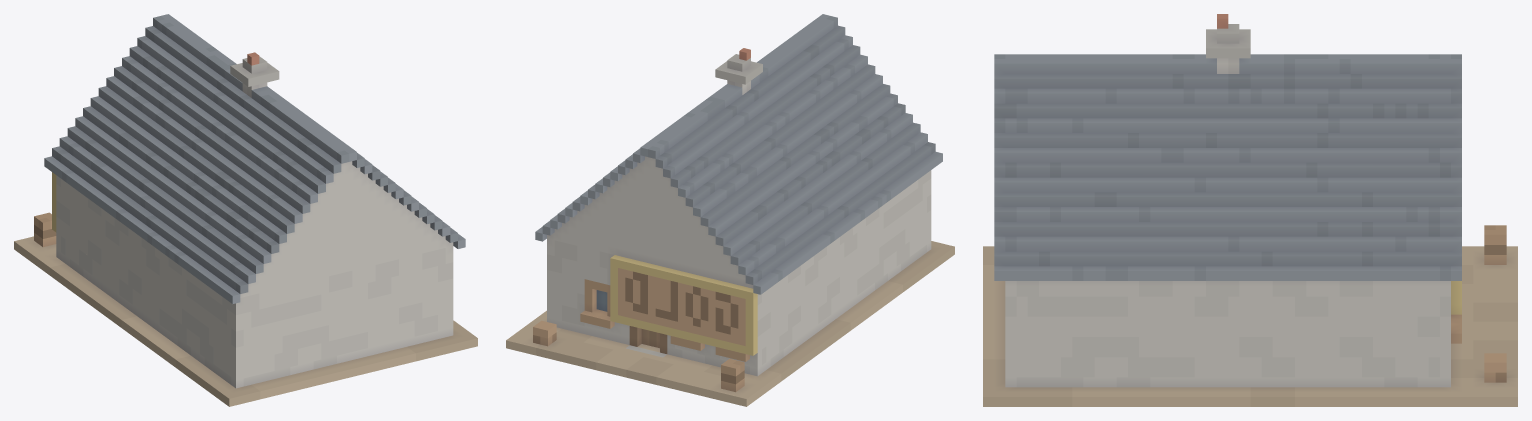
The model's file is gold_smelter.glb.
The picture shows the model from 3 angles, left to right: view 1: azimuth 30°, elevation 25°; view 2: azimuth 150°, elevation 25°; view 3: azimuth 270°, elevation 25°; orthographic projection. The views are drawn at different scales.
Visible parts, largest first — view 1: gold_smelter; view 2: gold_smelter; view 3: gold_smelter.
Boxes of the visible parts, x1=… form: gold_smelter: x1=14, y1=14, x2=477, y2=406; gold_smelter: x1=506, y1=14, x2=954, y2=406; gold_smelter: x1=983, y1=14, x2=1517, y2=406.
Size of the model in its own units: 4 by 3.88 by 6.
